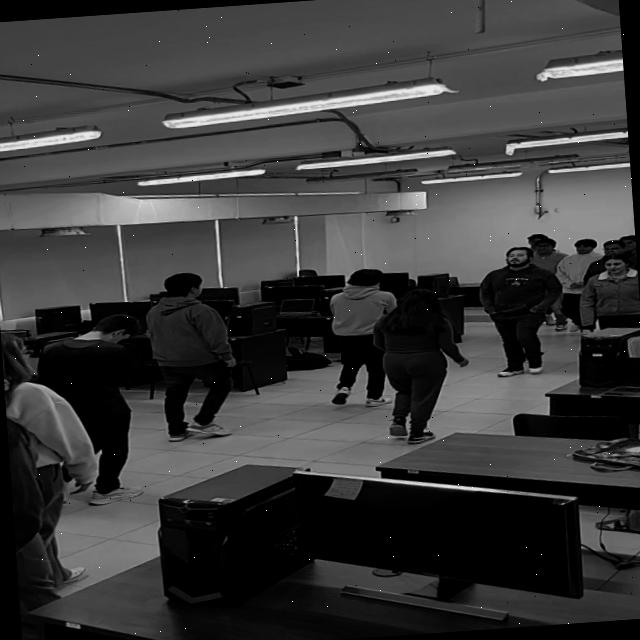Persona: (0, 324, 87, 611), (54, 305, 156, 507), (374, 280, 471, 445), (147, 269, 236, 445), (476, 245, 566, 382), (319, 264, 404, 406), (585, 252, 640, 358)
